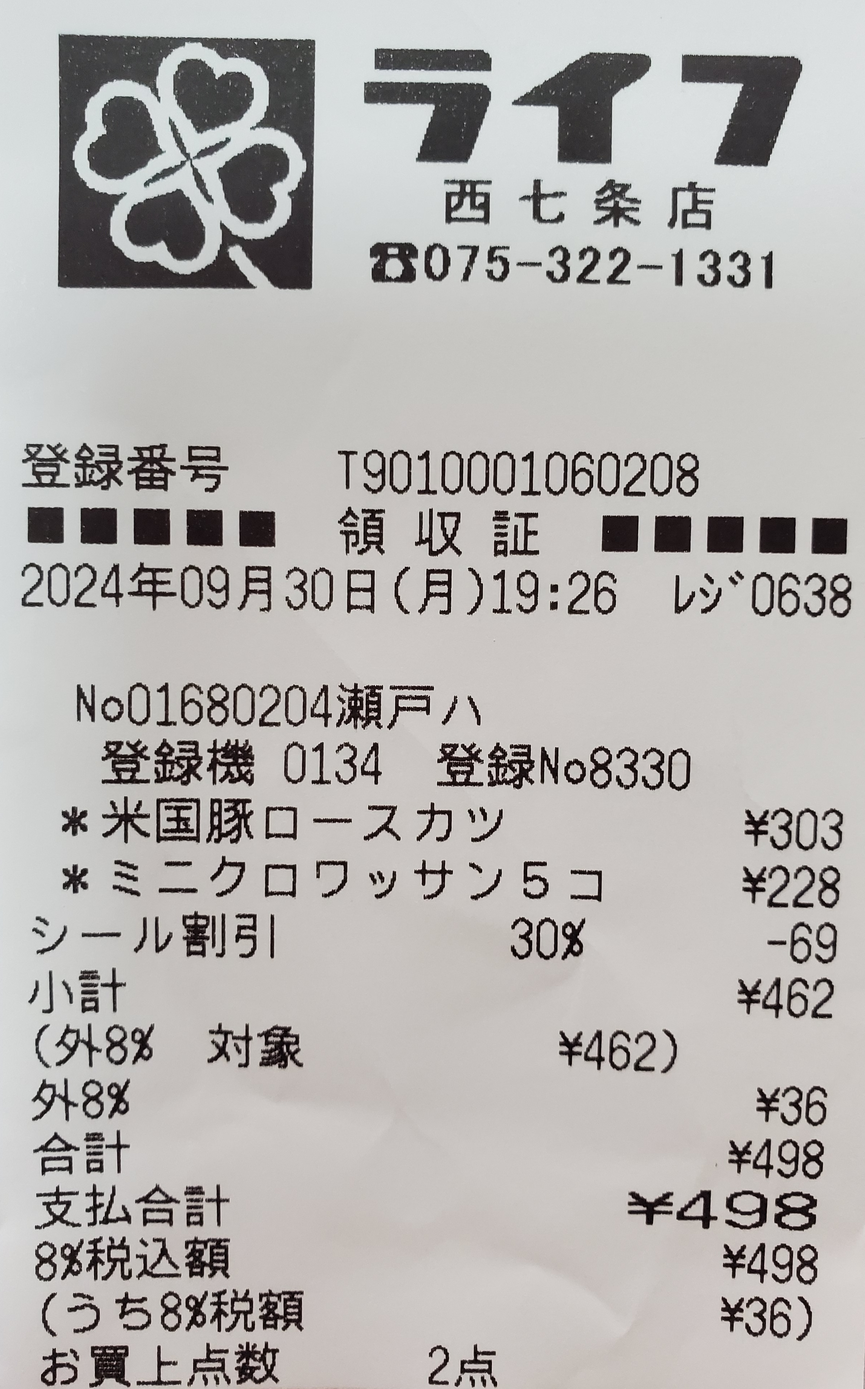Date: (15, 555, 387, 621)
Shopname: (353, 27, 808, 183)
Telnum: (425, 231, 796, 299)
Totalpay: (31, 1178, 844, 1234)
